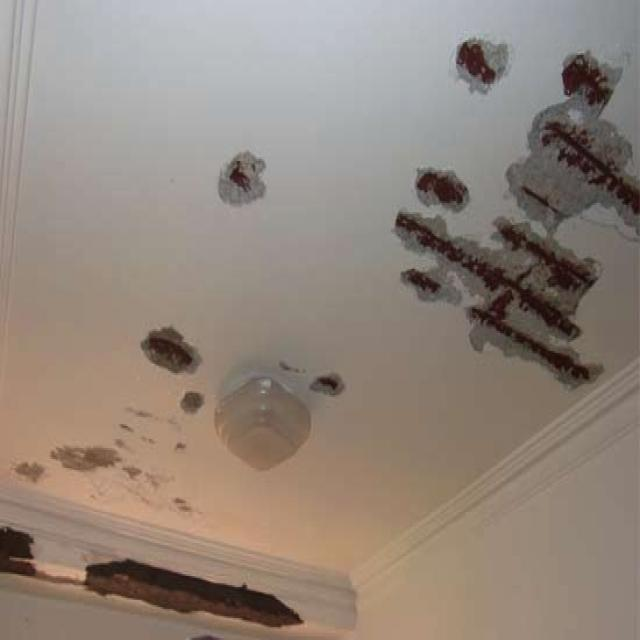Spalling: (387, 21, 640, 419), (129, 312, 209, 402), (212, 147, 276, 219), (306, 356, 348, 414)
